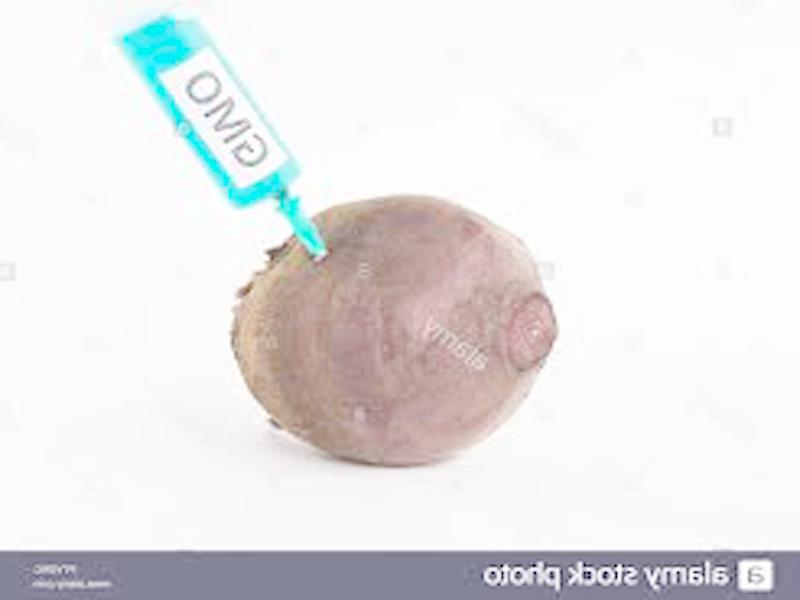Beet: (236, 193, 555, 468)
